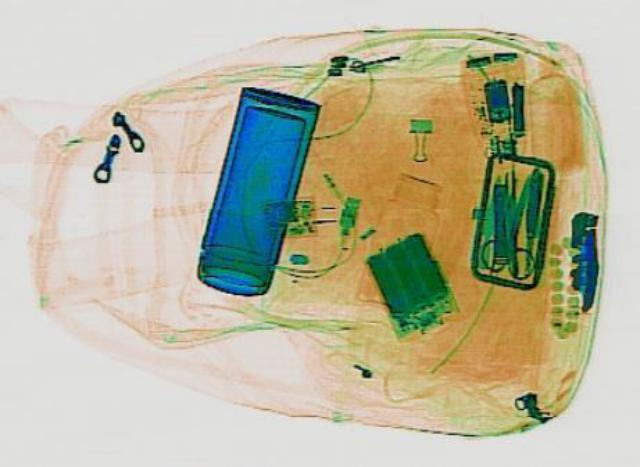Scissors: (476, 178, 540, 277)
